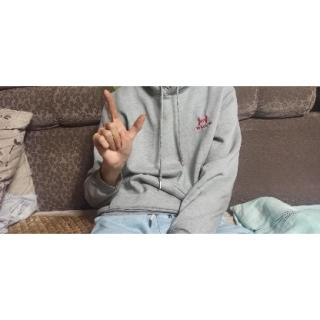LAAM: (95, 84, 148, 176)
